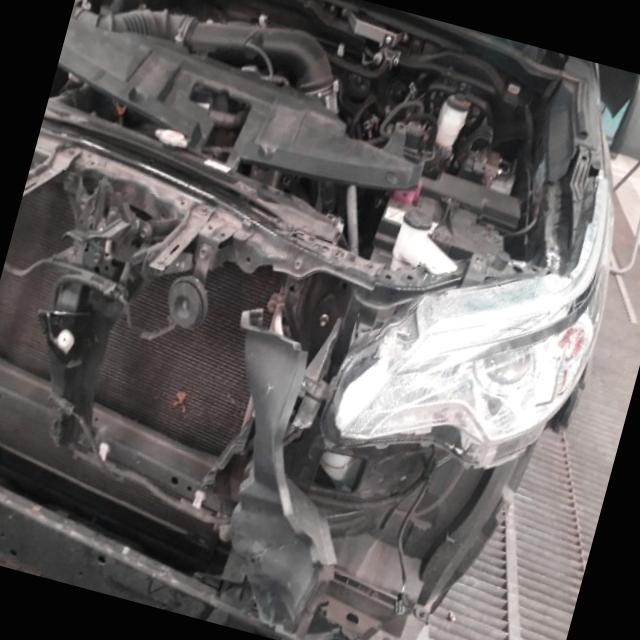Phare abime: (336, 246, 613, 490)
